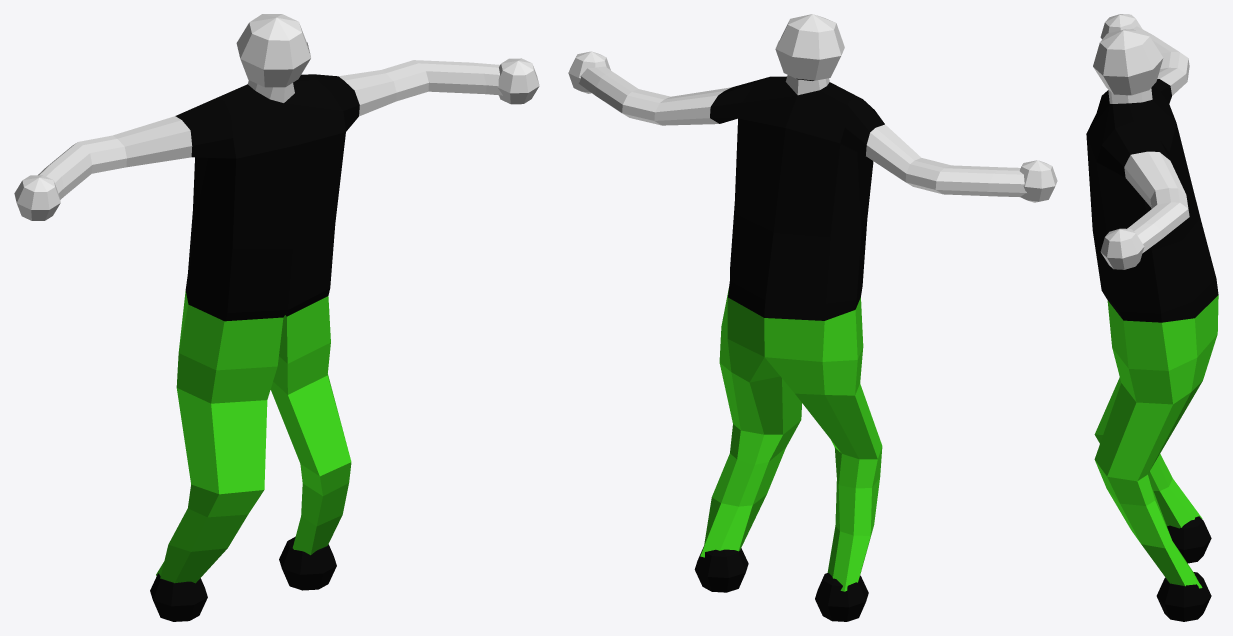
File: Char.gltf
3 renders of one model, left to right at view 1: azimuth 30°, elevation 25°; view 2: azimuth 150°, elevation 25°; view 3: azimuth 270°, elevation 25°, orthographic. The views are drawn at different scales.
Visible parts, largest first — view 1: Cylinder; view 2: Cylinder; view 3: Cylinder.
Part boxes in pixels (x1=…): Cylinder: x1=14, y1=14, x2=539, y2=621; Cylinder: x1=568, y1=14, x2=1057, y2=621; Cylinder: x1=1086, y1=14, x2=1218, y2=621.
Size of the model in its own units: 0.4544 by 0.5106 by 0.1088.
